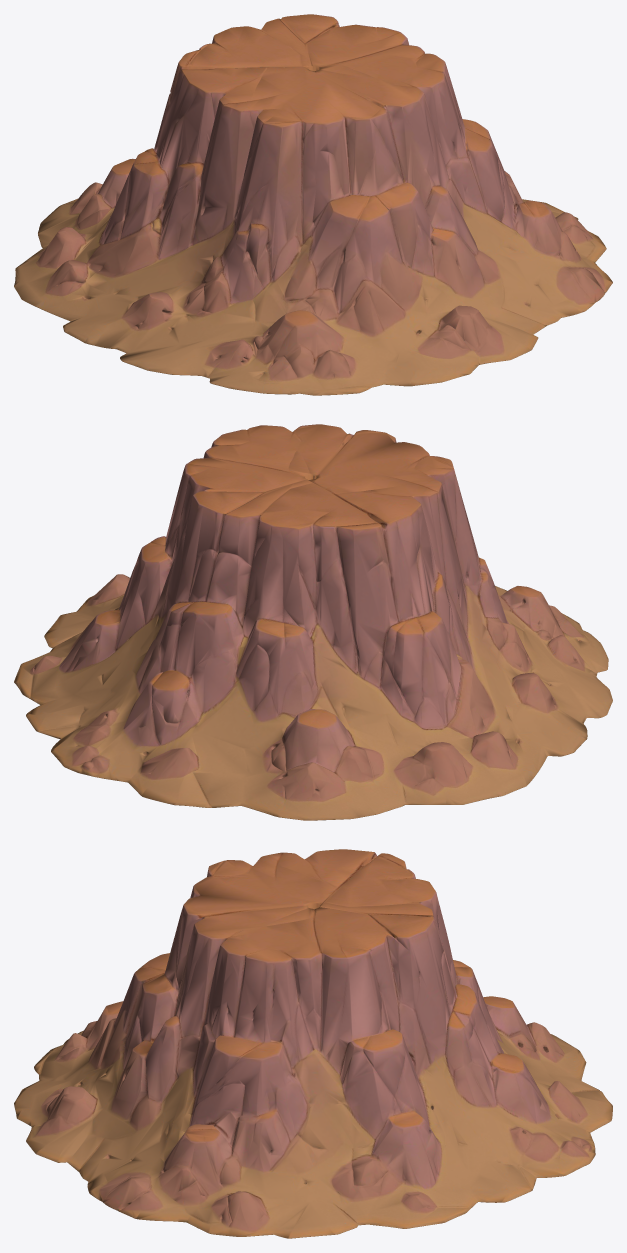
The model's file is meseta_desertica.glb.
3 views of the same model, one above another, from view 1: azimuth 30°, elevation 25°; view 2: azimuth 150°, elevation 25°; view 3: azimuth 270°, elevation 25° (orthographic). The views are drawn at different scales.
Visible parts, largest first — view 1: meseta_desertica; view 2: meseta_desertica; view 3: meseta_desertica.
Boxes of the visible parts, box(x1,y1,x2,y2) form: meseta_desertica: box(14, 14, 612, 395); meseta_desertica: box(14, 424, 612, 820); meseta_desertica: box(14, 849, 612, 1238).
Size of what is drawn, in the model's own units: 38.31 by 15 by 38.71.
1 material, 1 textured.
